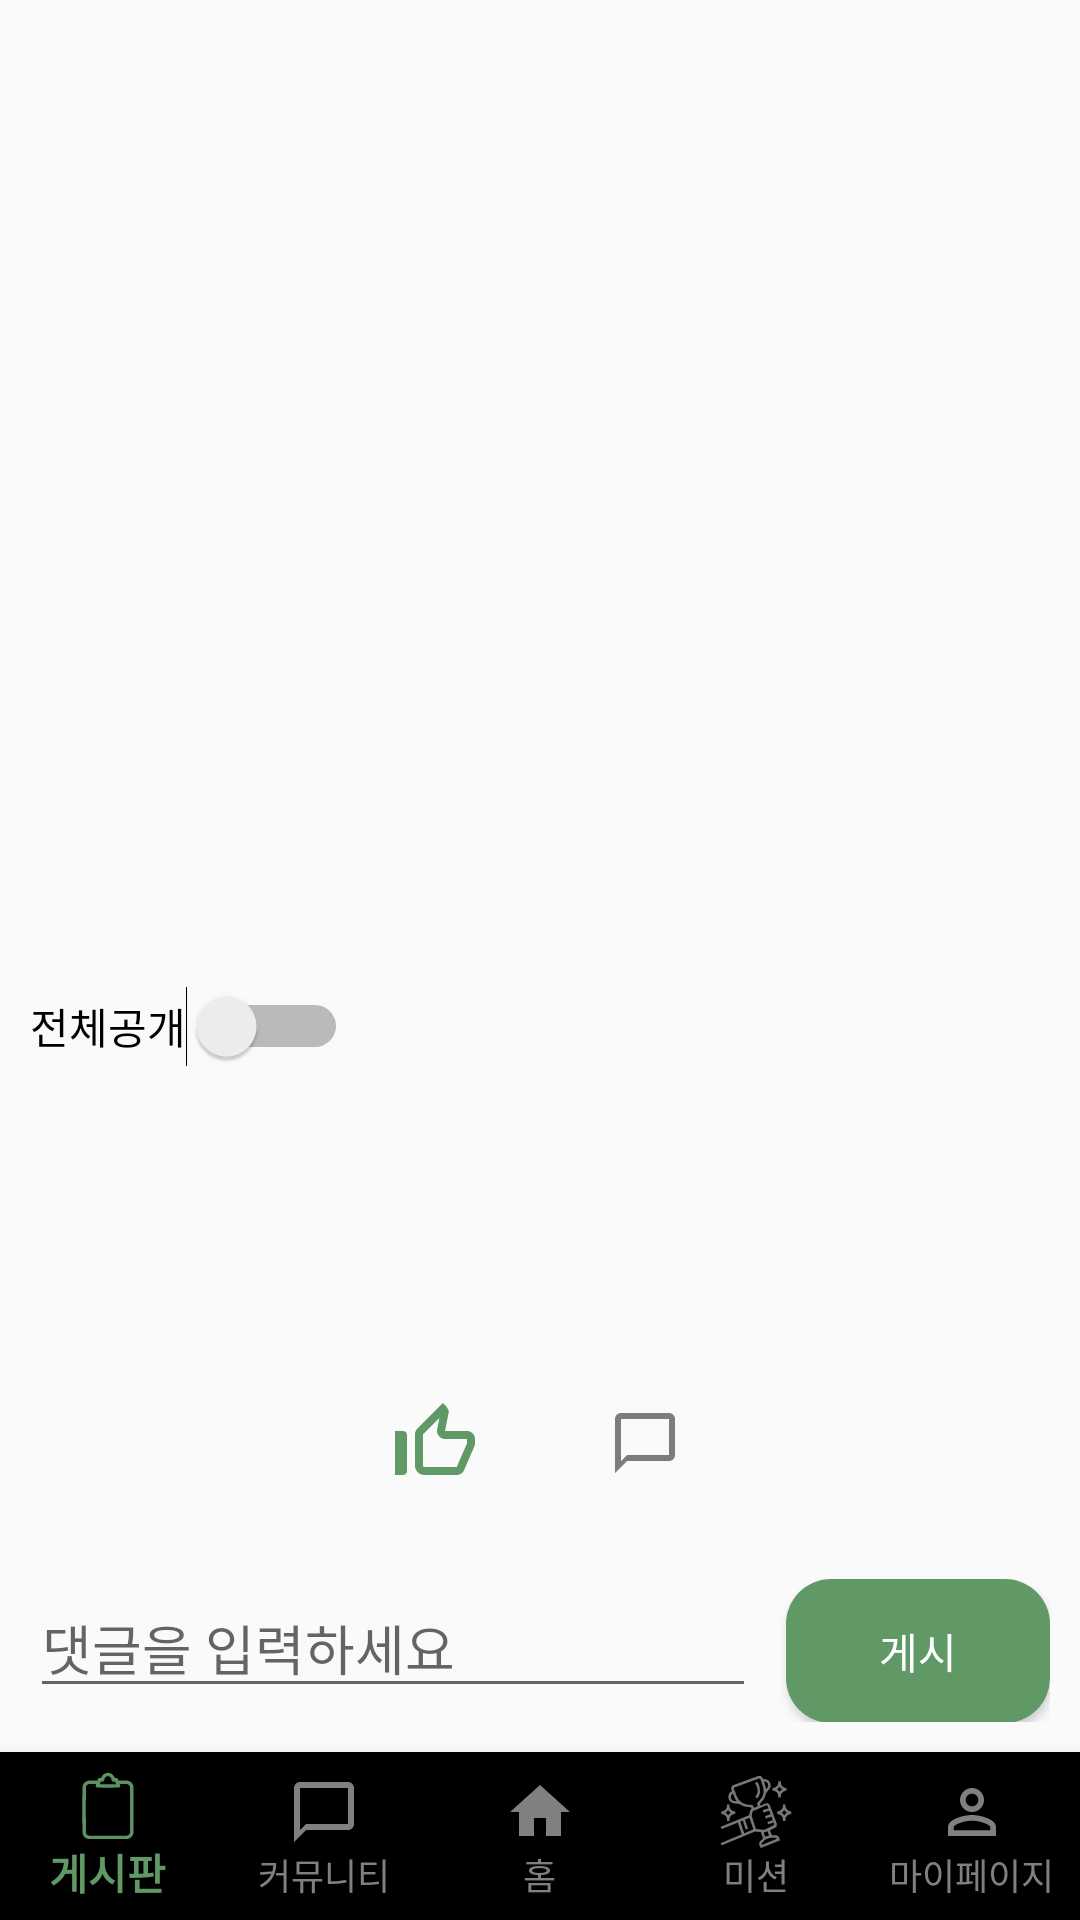

Icon bounding boxes for this 1080*1920 phone screenshot, format (x1, y1, x2, y2):
like: (395, 1403, 475, 1475)
